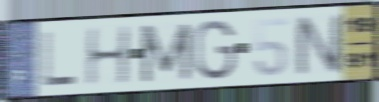5: (252, 16, 289, 78)
G: (191, 18, 239, 83)
H: (83, 23, 132, 88)
L: (40, 29, 79, 88)
M: (137, 21, 194, 85)
N: (292, 12, 345, 78)
